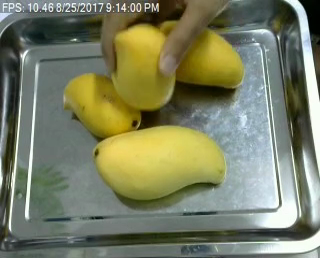Mango: (90, 124, 227, 202), (102, 22, 175, 111), (155, 18, 246, 88), (61, 71, 142, 138)
